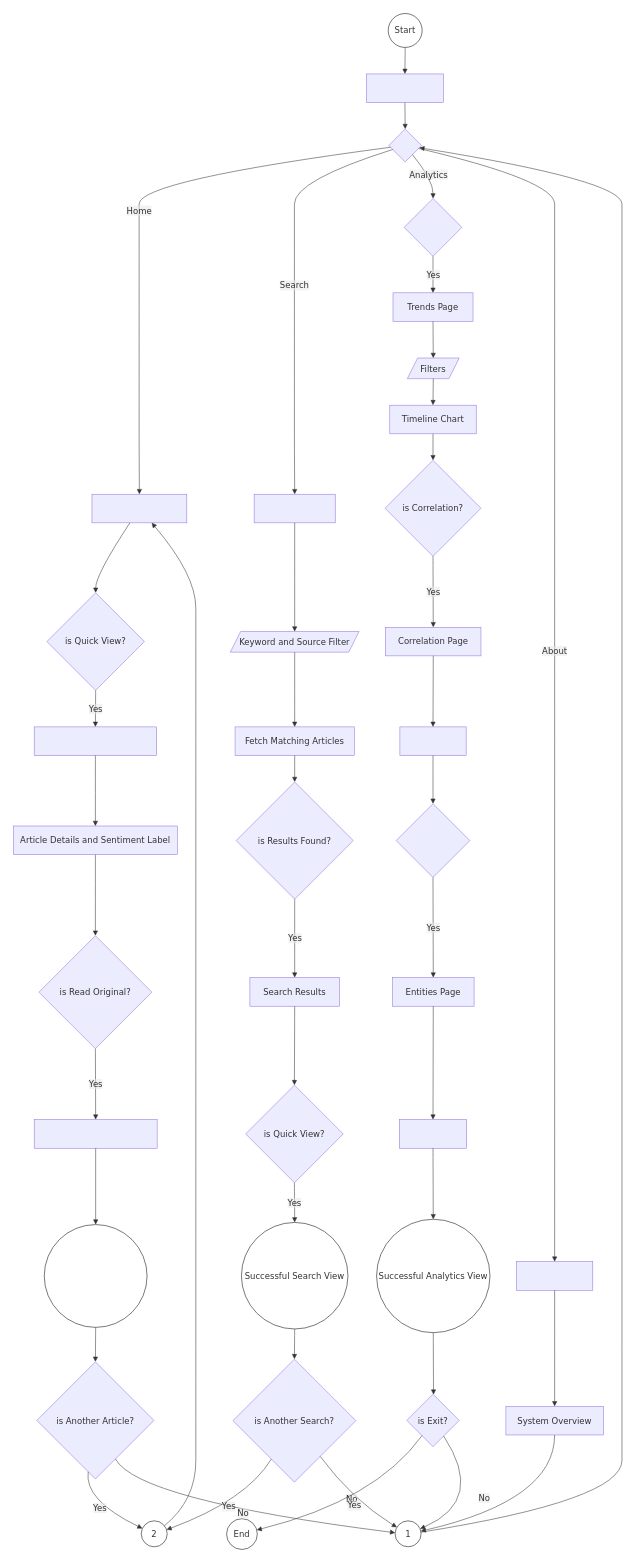
This 631x1559 diagram has some shape labels left out. Here are the shapes that lost their labels. From the top down, the box of each, then its label:
(366, 73, 443, 103): Home Page
(388, 129, 422, 162): Hub
(404, 198, 462, 256): Trends?
(91, 494, 187, 523): Latest Headlines
(254, 494, 335, 523): Search Page
(34, 726, 157, 756): Open Quick View Modal
(399, 726, 466, 756): Heatmap
(396, 803, 470, 877): is Entities?
(34, 1119, 157, 1148): Open Publisher Website
(399, 1119, 467, 1148): Rankings
(44, 1224, 147, 1327): Successful Article View
(516, 1261, 593, 1290): About Page
